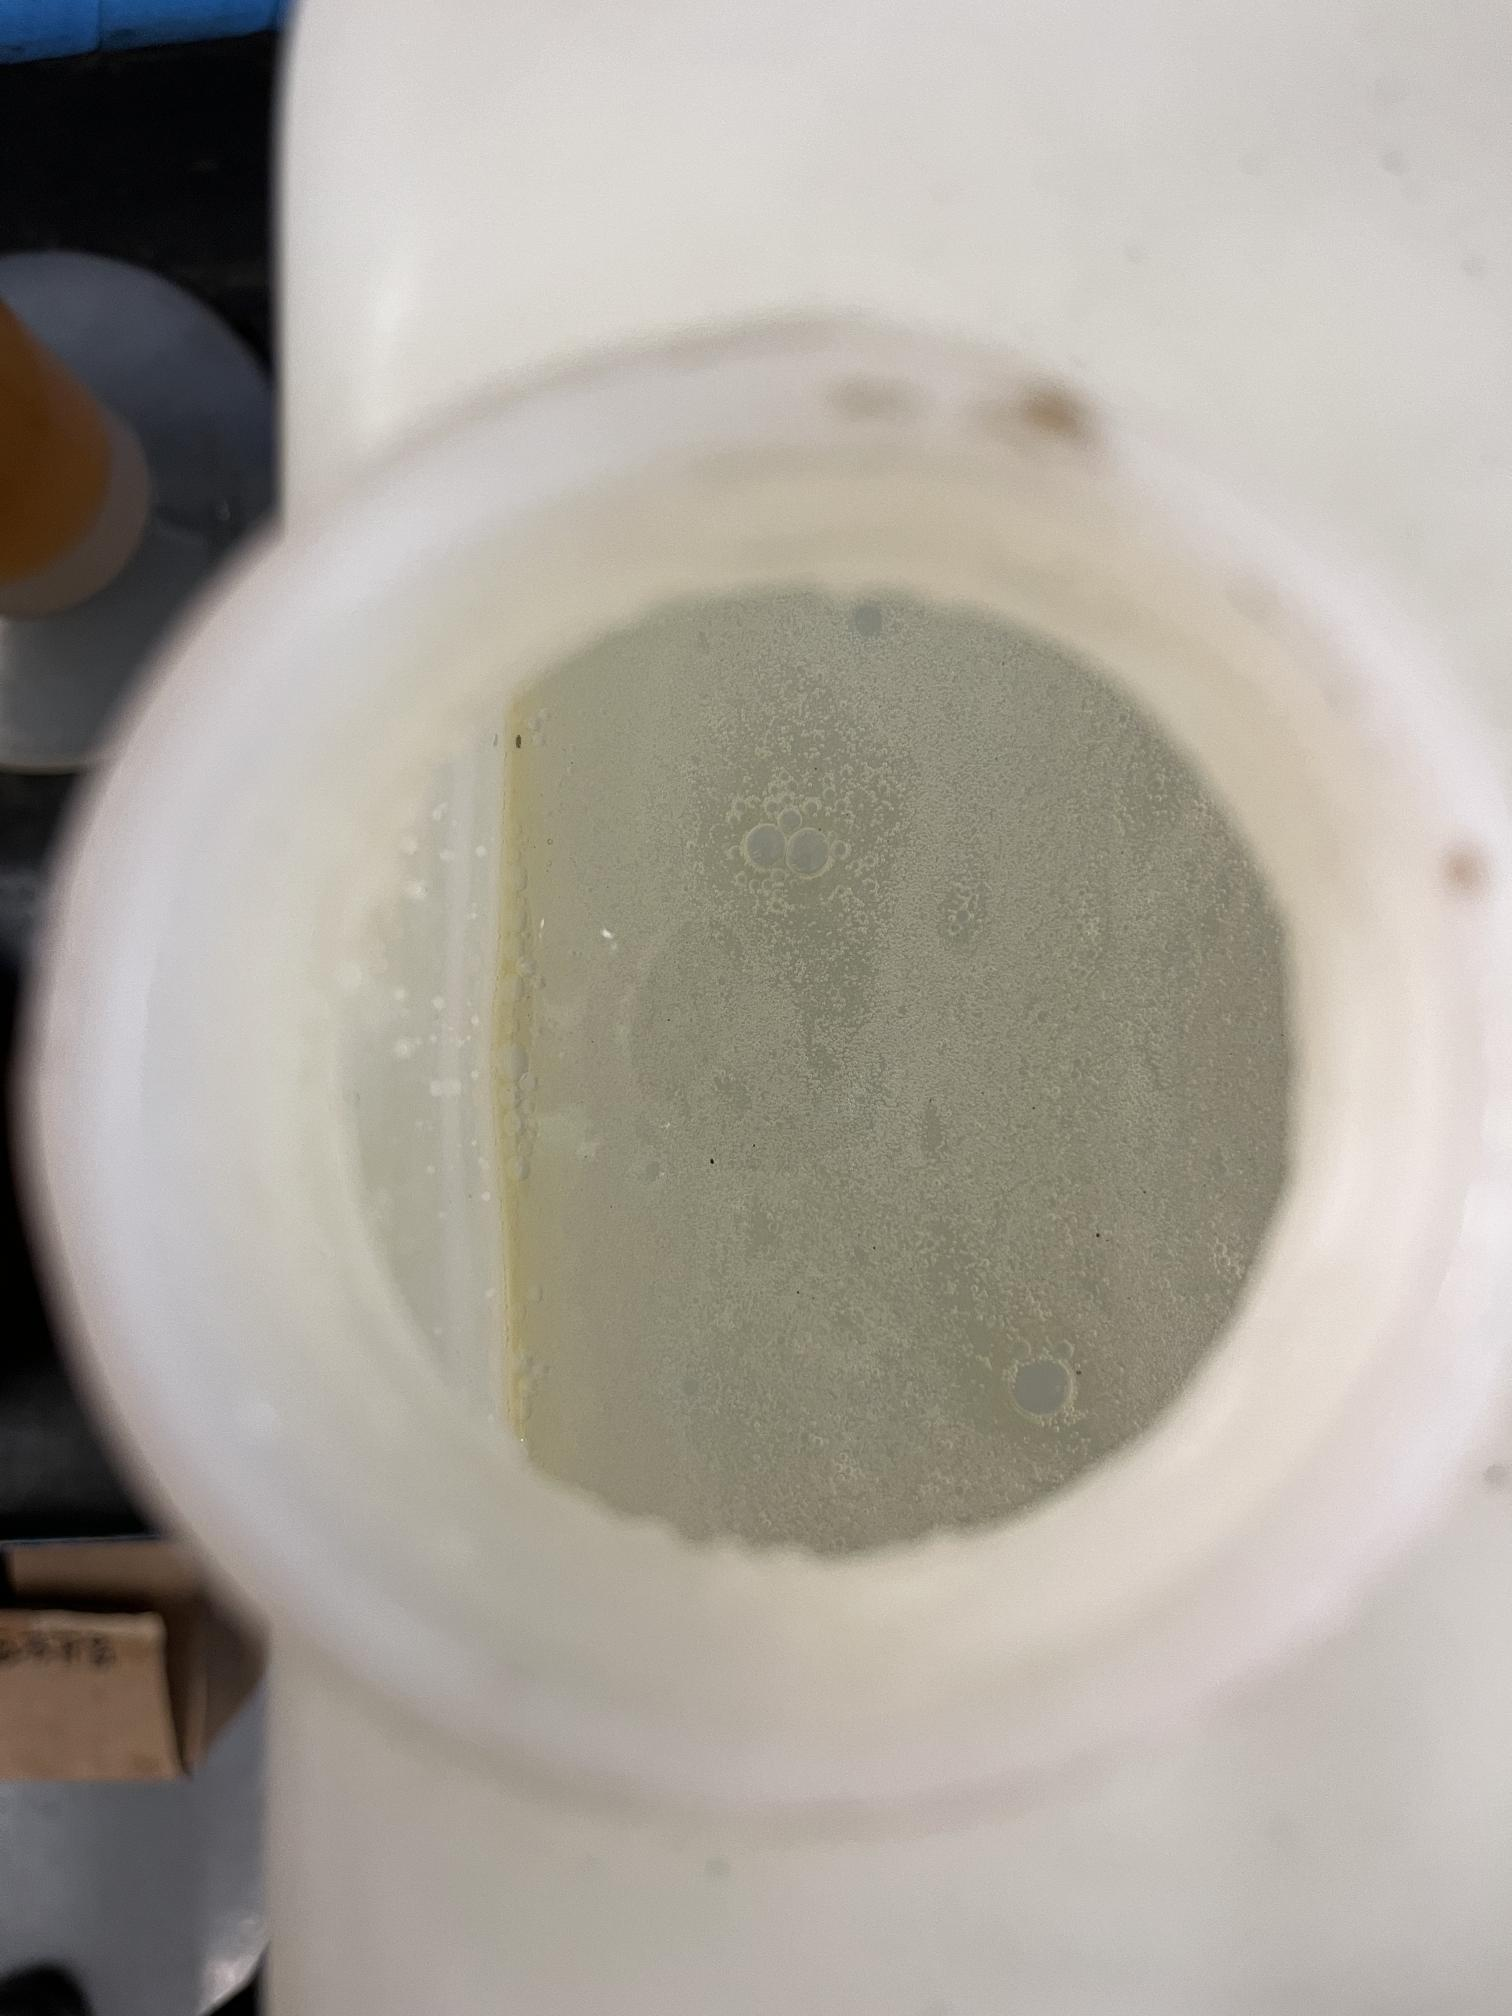Presenca de Oleo - - 60ml: (361, 495, 1406, 1660)
